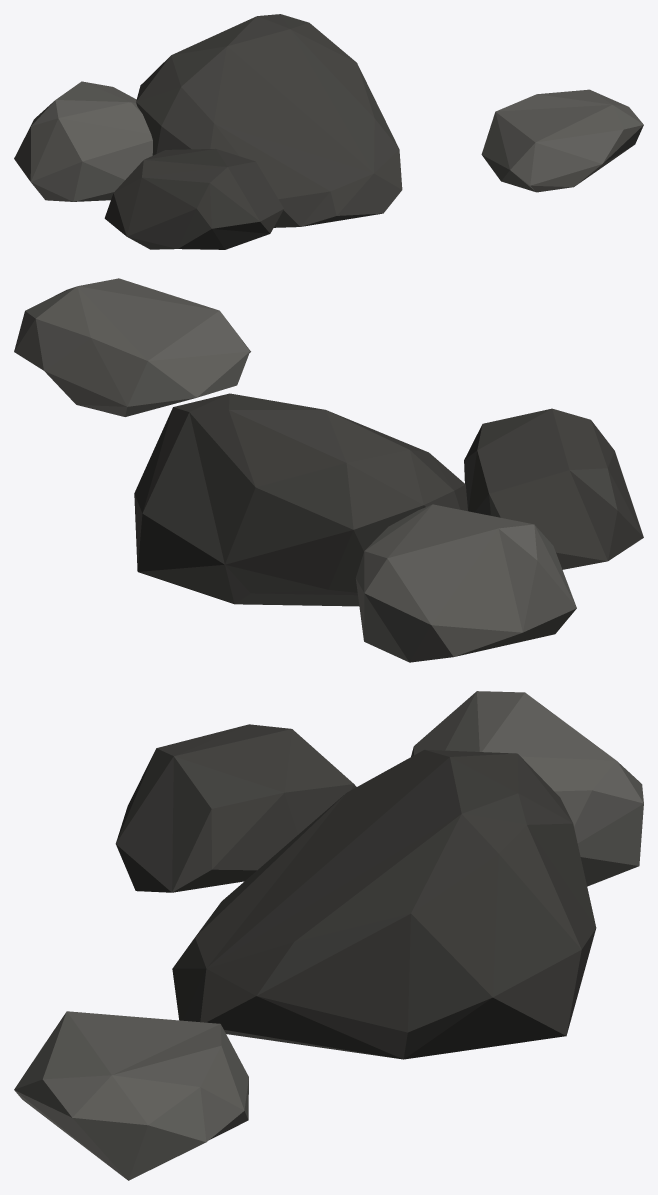
File: SM_Env_Rock_Pebbles_05.fbx
3 renders of one model, top to bottom at view 1: azimuth 30°, elevation 25°; view 2: azimuth 150°, elevation 25°; view 3: azimuth 270°, elevation 25°, orthographic. The views are drawn at different scales.
Parts seen in each view (by area): view 1: SM_Env_Rock_Pebbles_05; view 2: SM_Env_Rock_Pebbles_05; view 3: SM_Env_Rock_Pebbles_05.
Part boxes in pixels (x1,y1,x2,y2): SM_Env_Rock_Pebbles_05: (14,14,643,249); SM_Env_Rock_Pebbles_05: (14,278,643,662); SM_Env_Rock_Pebbles_05: (14,691,643,1180).
Bounding box in the file's own units: 113 × 29.06 × 73.92.
Materials: 1 (1 with a texture image).
